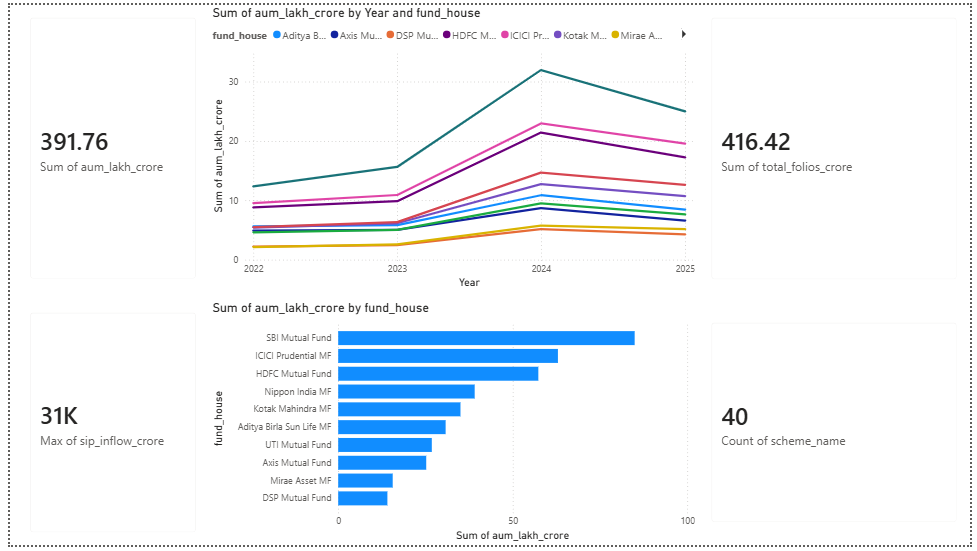

The dashboard page shown, as its layout file describes it:
{"tool":"powerbi","page":{"name":"Industry Overview","canvas":[1280,720],"ordinal":0},"visuals":[{"type":"cardVisual","fields":{"Data":["Sum(clean_aum_by_fund_house.aum_lakh_crore)"]},"box":[10.3,0,255.2,382.8],"z":0},{"type":"cardVisual","fields":{"Data":["Max(clean_monthly_sip_inflows.sip_inflow_crore)"]},"box":[10.3,393,255.2,327],"z":1000},{"type":"lineChart","fields":{"Category":["clean_aum_by_fund_house.date.Variation.Date Hierarchy.Year","clean_aum_by_fund_house.date.Variation.Date Hierarchy.Quarter","clean_aum_by_fund_house.date.Variation.Date Hierarchy.Month","clean_aum_by_fund_house.date.Variation.Date Hierarchy.Day"],"Y":["Sum(clean_aum_by_fund_house.aum_lakh_crore)"],"Series":["clean_aum_by_fund_house.fund_house"]},"box":[265.4,0,530.9,382.8],"z":2000},{"type":"clusteredBarChart","fields":{"Category":["clean_aum_by_fund_house.fund_house"],"Y":["Sum(clean_aum_by_fund_house.aum_lakh_crore)"]},"box":[265.4,393,530.9,327],"z":3000},{"type":"cardVisual","fields":{"Data":["Sum(clean_industry_folio_count.total_folios_crore)"]},"box":[806,0,474,383],"z":4000},{"type":"cardVisual","fields":{"Data":["Count(clean_fund_master.scheme_name)"]},"box":[817.2,406.3,462.8,300.9],"z":5000}]}

Visuals, with their boxes in screenshot pixels (x1, y1, x2, y2), scaled from the page's 1280x720 canvas onto the 977x551 screenshot:
cardVisual - Sum(clean_aum_by_fund_house.aum_lakh_crore): bbox=[8, 0, 203, 293]
cardVisual - Max(clean_monthly_sip_inflows.sip_inflow_crore): bbox=[8, 301, 203, 550]
lineChart - clean_aum_by_fund_house.date.Variation.Date Hierarchy.Year x clean_aum_by_fund_house.date.Variation.Date Hierarchy.Quarter: bbox=[203, 0, 608, 293]
clusteredBarChart - clean_aum_by_fund_house.fund_house x Sum(clean_aum_by_fund_house.aum_lakh_crore): bbox=[203, 301, 608, 550]
cardVisual - Sum(clean_industry_folio_count.total_folios_crore): bbox=[615, 0, 976, 293]
cardVisual - Count(clean_fund_master.scheme_name): bbox=[624, 311, 976, 541]
